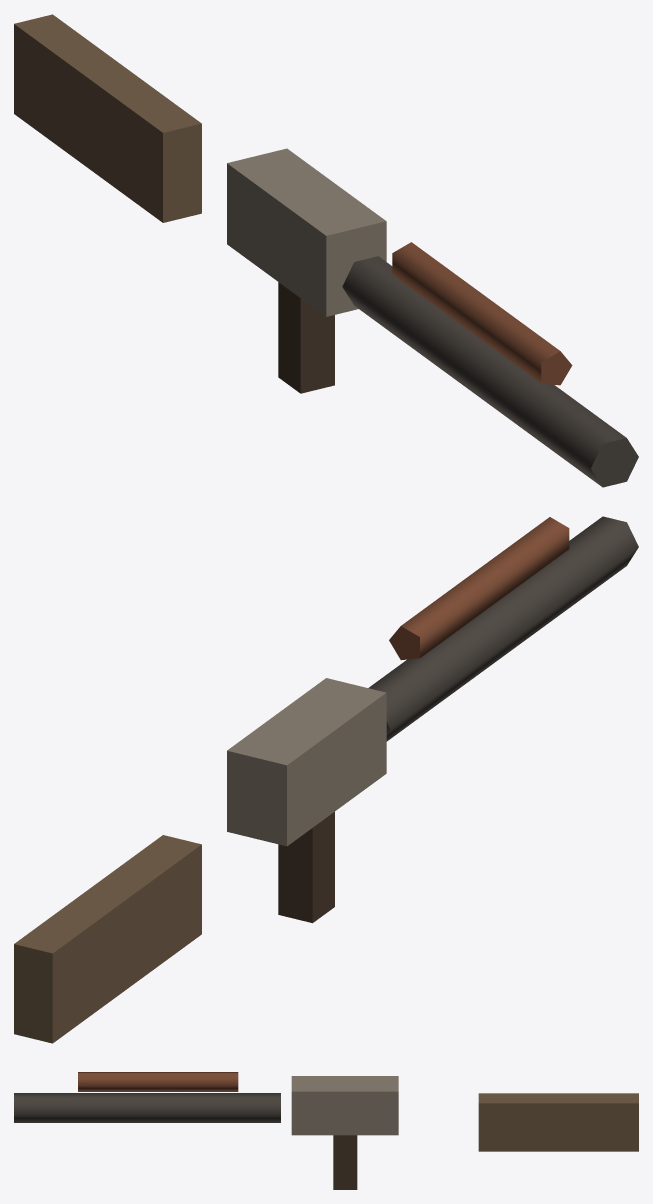
The picture shows the model from 3 angles, top to bottom: view 1: azimuth 30°, elevation 25°; view 2: azimuth 150°, elevation 25°; view 3: azimuth 270°, elevation 25°; orthographic projection. The views are drawn at different scales.
Parts seen in each view (by area): view 1: raider_weapon_pipe_gun; view 2: raider_weapon_pipe_gun; view 3: raider_weapon_pipe_gun.
Boxes of the visible parts, left/top/right/bottom form: raider_weapon_pipe_gun: left=14, top=14, right=638, bottom=487; raider_weapon_pipe_gun: left=14, top=516, right=638, bottom=1043; raider_weapon_pipe_gun: left=14, top=1072, right=638, bottom=1189.
Bounding box in the file's own units: 0.07 × 0.234 × 1.17.
